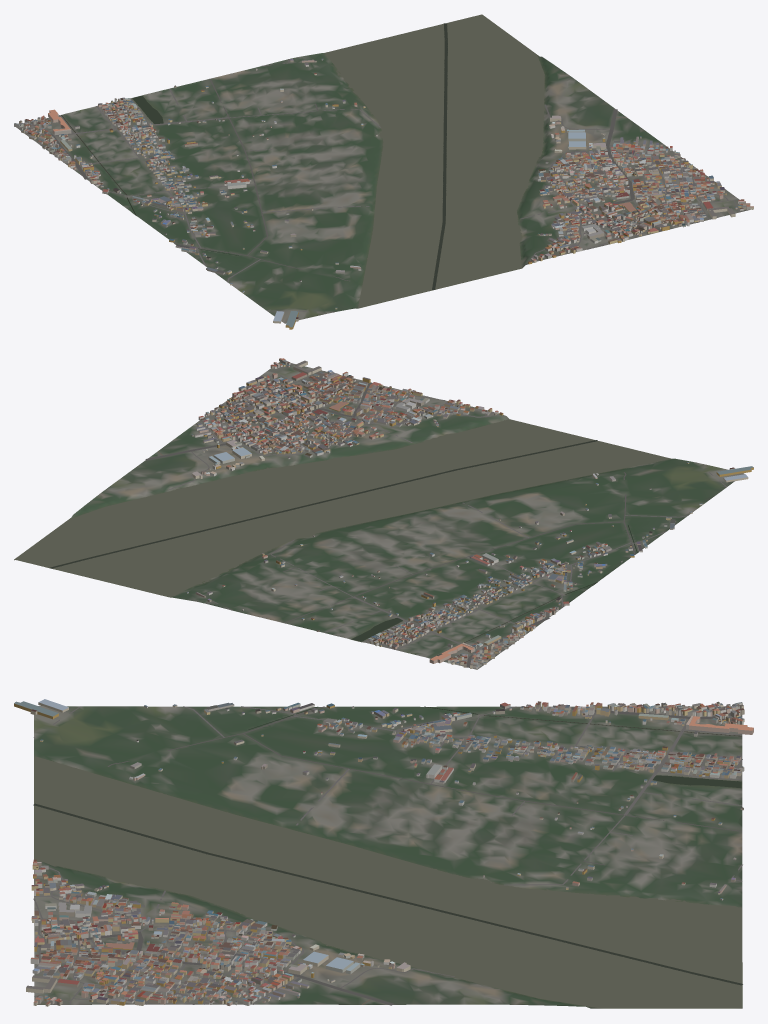
3 views of the same model, one above another, from view 1: azimuth 30°, elevation 25°; view 2: azimuth 150°, elevation 25°; view 3: azimuth 270°, elevation 25° (orthographic). The views are drawn at different scales.
Parts seen in each view (by area): view 1: ground, water, buildings, roads; view 2: ground, water, buildings, roads; view 3: ground, water, buildings, roads.
Part boxes in pixels (bbox=[...]): ground: bbox=[14, 15, 752, 323]; water: bbox=[61, 14, 544, 307]; buildings: bbox=[14, 58, 753, 329]; roads: bbox=[23, 59, 740, 312]; ground: bbox=[14, 362, 744, 669]; water: bbox=[15, 419, 671, 658]; buildings: bbox=[187, 358, 753, 669]; roads: bbox=[145, 363, 726, 667]; ground: bbox=[34, 706, 742, 1008]; water: bbox=[33, 706, 742, 1007]; buildings: bbox=[14, 699, 753, 1006]; roads: bbox=[33, 705, 742, 1005].
Bounding box in the file's own units: 1432 × 23.59 × 1465.
